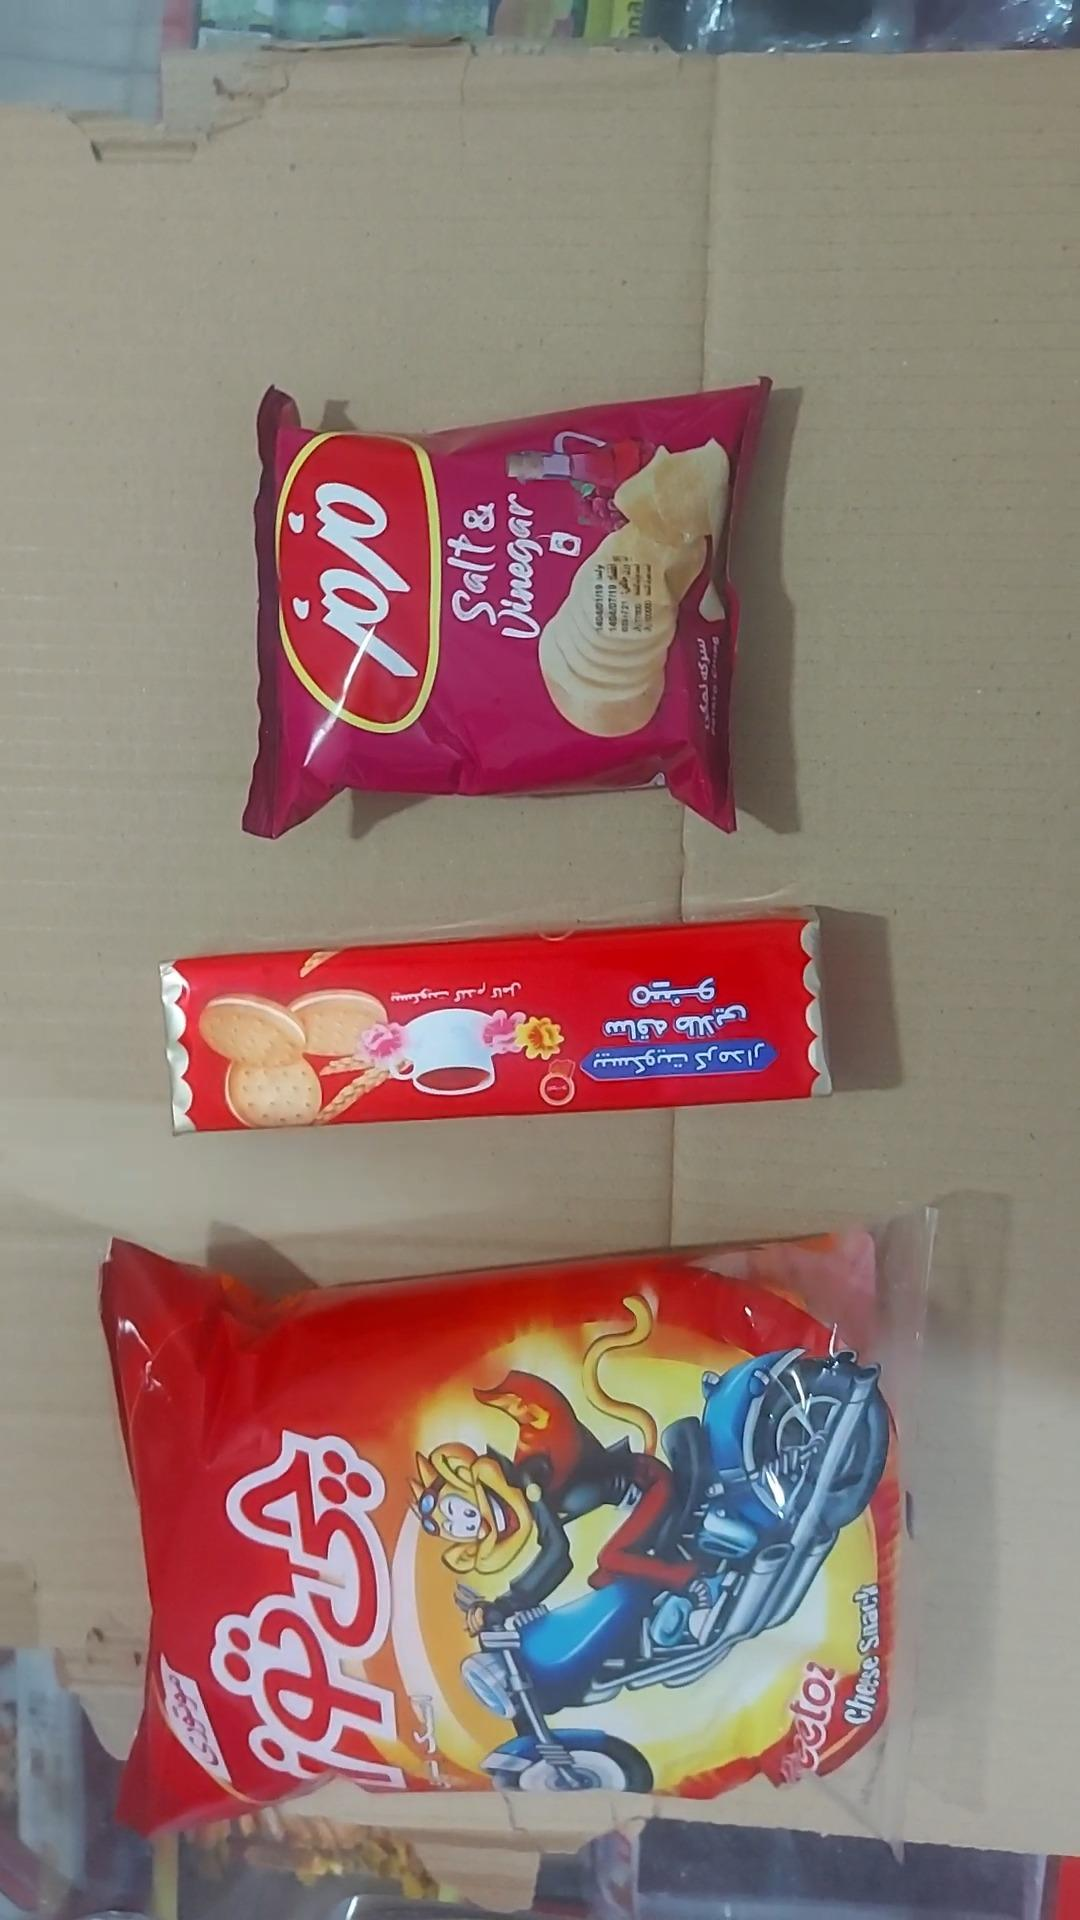Cheetoz snack 90g: (100, 1209, 936, 1841)
Maz Maz vinegar chips: (241, 381, 770, 843)
Minoo cream biscuit: (157, 907, 837, 1135)
